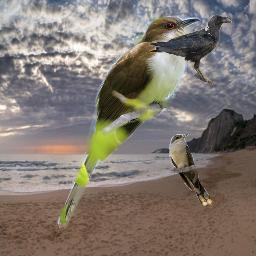Crow: (149, 15, 232, 84)
Cuckoo: (56, 14, 201, 228), (169, 134, 212, 206)
